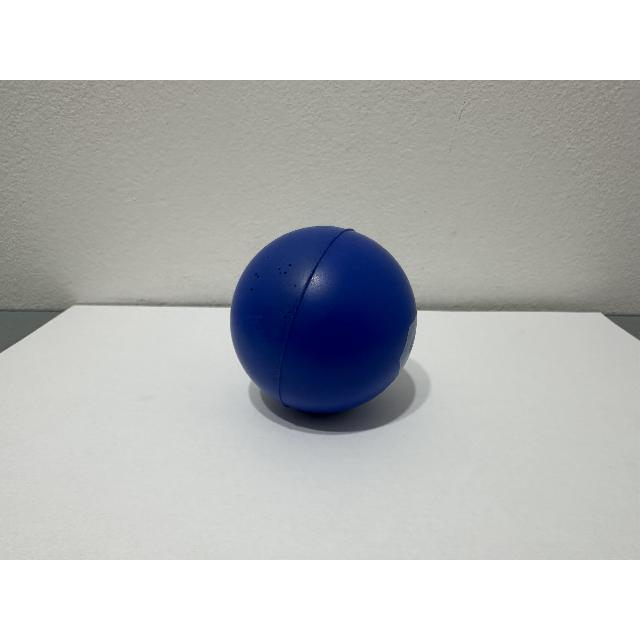blue_ball: (195, 130, 502, 538)
